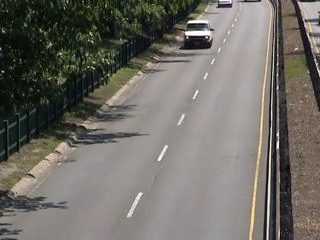car: (216, 1, 235, 9)
truck: (183, 19, 214, 51)
